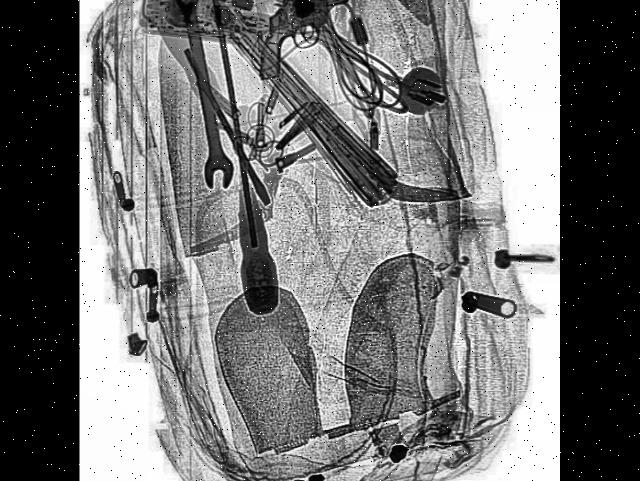Gun: (253, 0, 376, 78)
Wrench: (172, 0, 237, 191)
